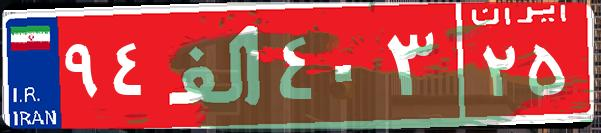0: (330, 28, 385, 110)
2: (475, 38, 525, 113)
3: (385, 28, 445, 110)
4: (273, 28, 330, 110), (110, 28, 158, 105)
5: (525, 38, 570, 115)
9: (57, 26, 110, 107)
الف: (158, 15, 273, 115)
